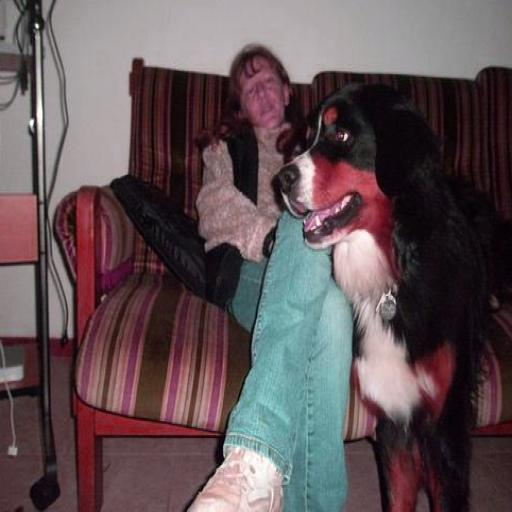dog_face: (285, 86, 427, 248)
